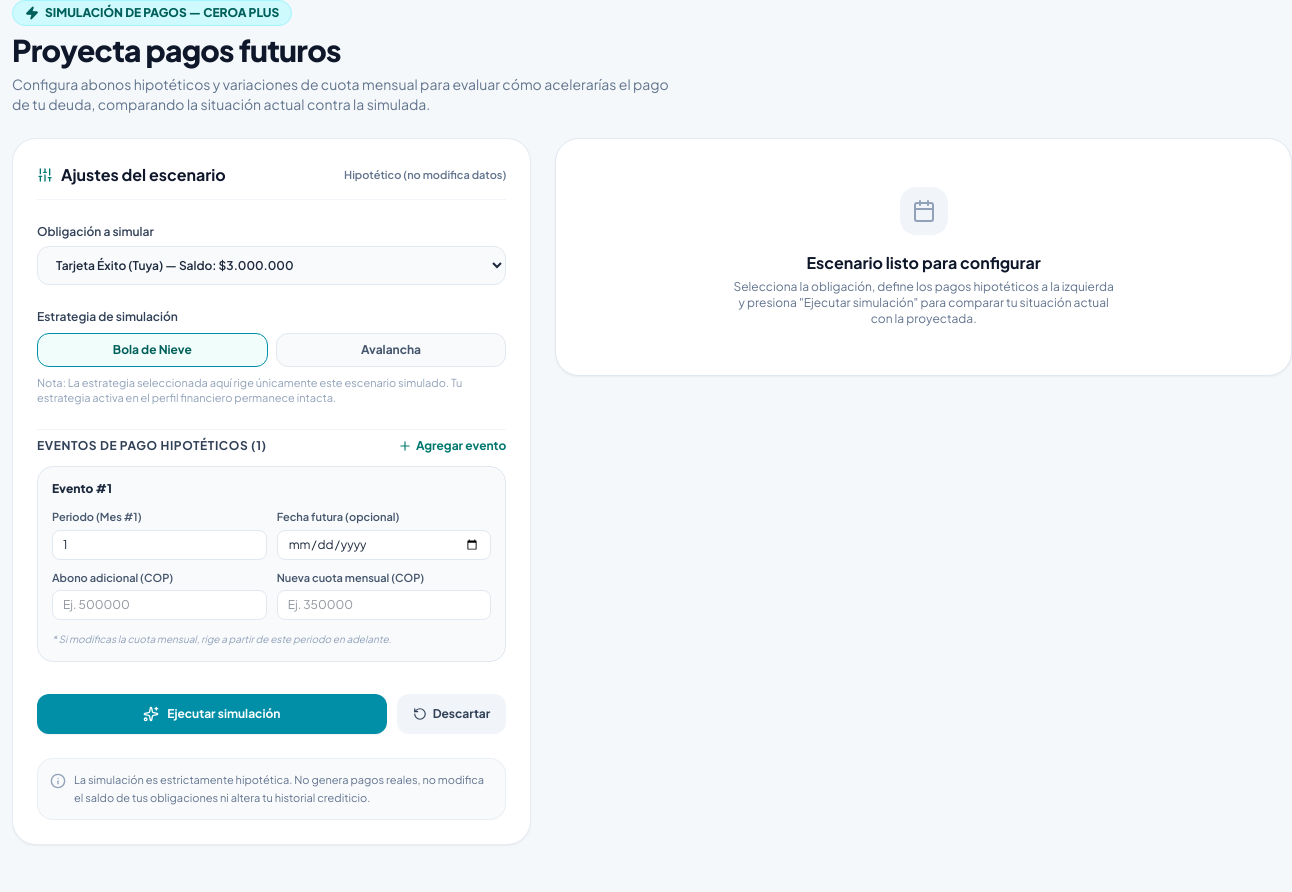
it: EP-11 — Simulación de pagos (HU-045, HU-046, HU-047) › HU-047: Modificar o descartar escenario › Permite modificar eventos y reejecutar la simulación con nuevos resultados
This screenshot has width=1292, height=892.
// Primera ejecución
Type "500000" into the number field with placeholder "Ej. 500000". click: (159,605)
box: left=52, top=590, right=267, bottom=620
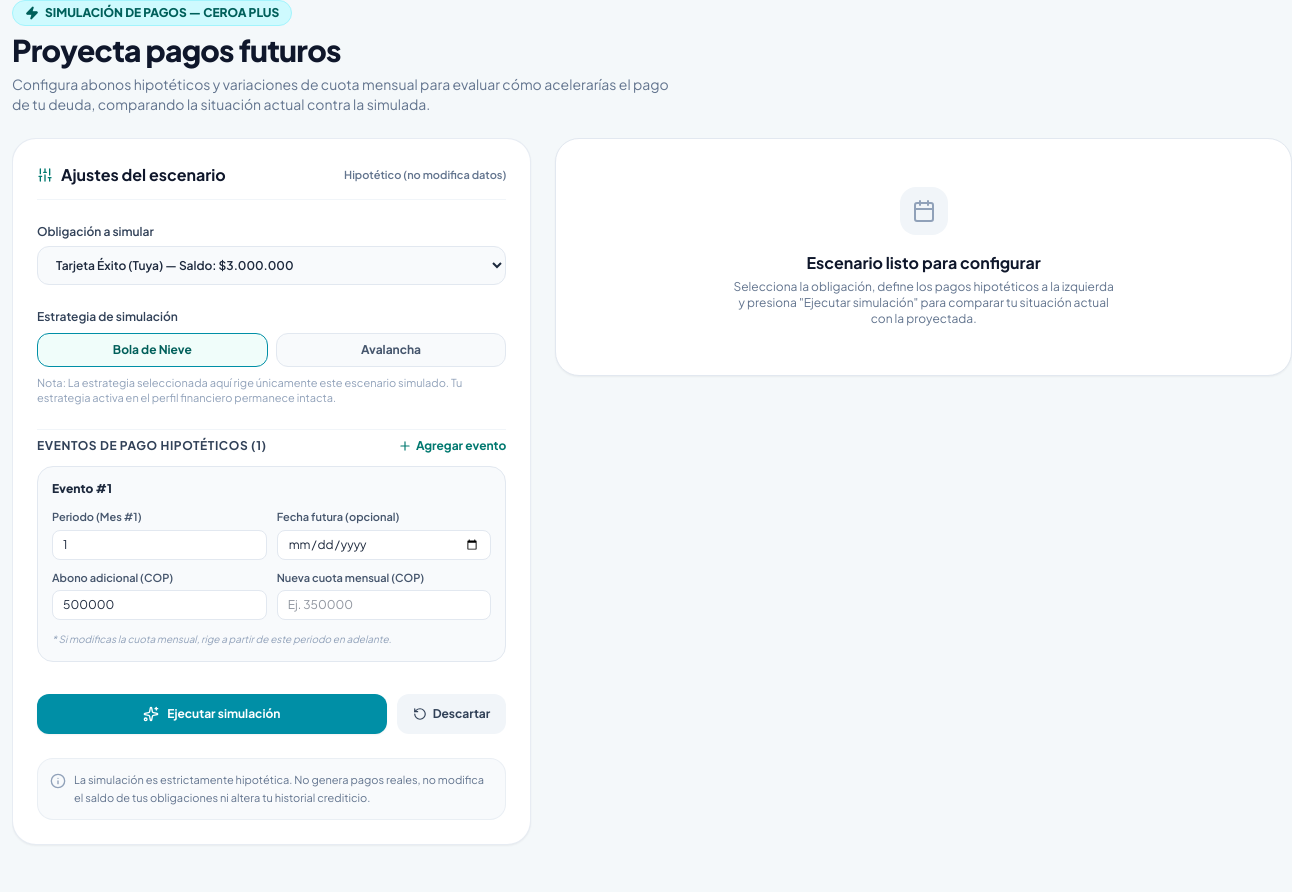
Click the button "Ejecutar simulación". click: (212,714)
box: left=37, top=694, right=387, bottom=734
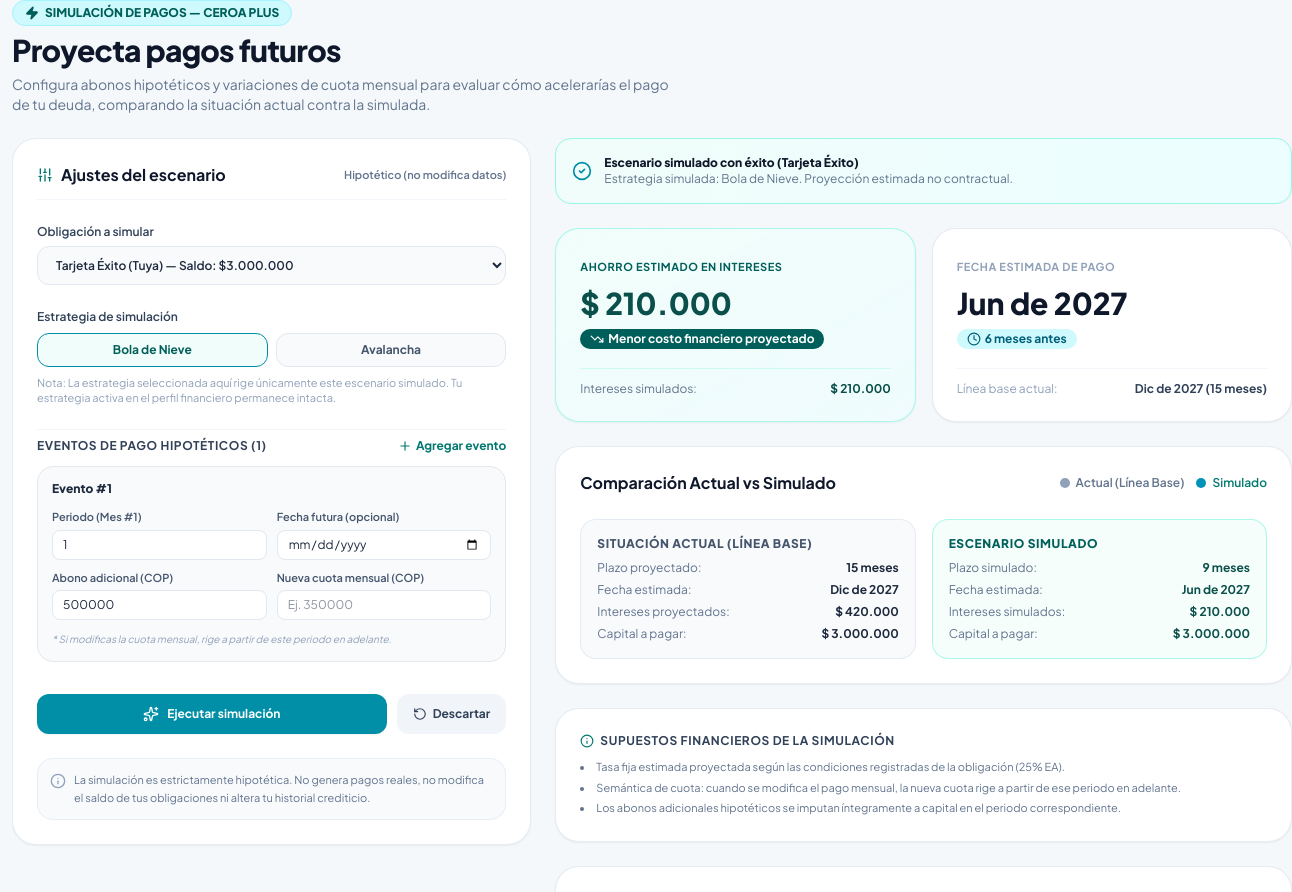
Result: the text "6 meses antes" is shown at left=985, top=331, right=1067, bottom=347
// Modificar monto a 800000 y reejecutar
Replace the text in the number field with placeholder "Ej. 500000" with "800000". click: (159,605)
box: left=52, top=590, right=267, bottom=620
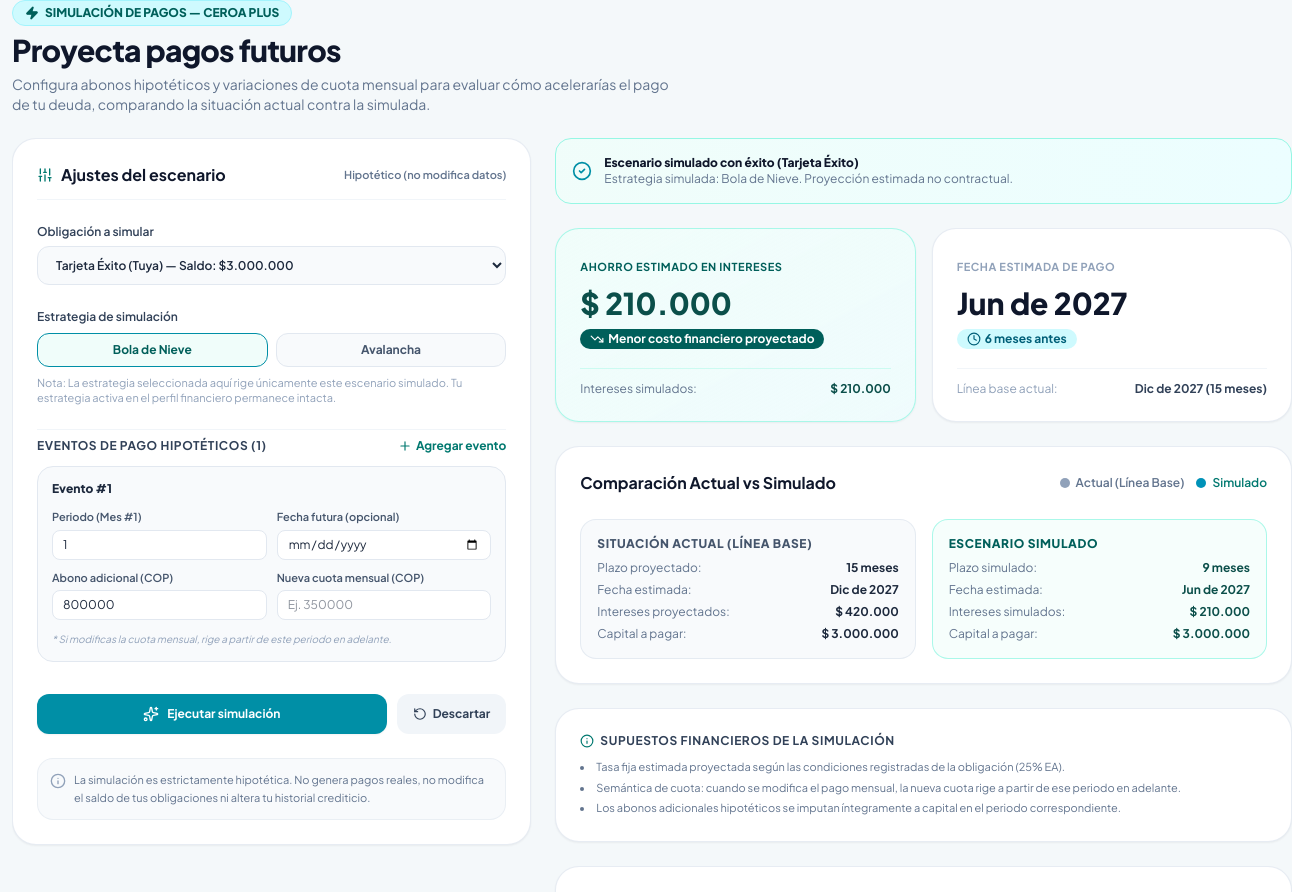
Click the button "Ejecutar simulación". click: (212,714)
box: left=37, top=694, right=387, bottom=734
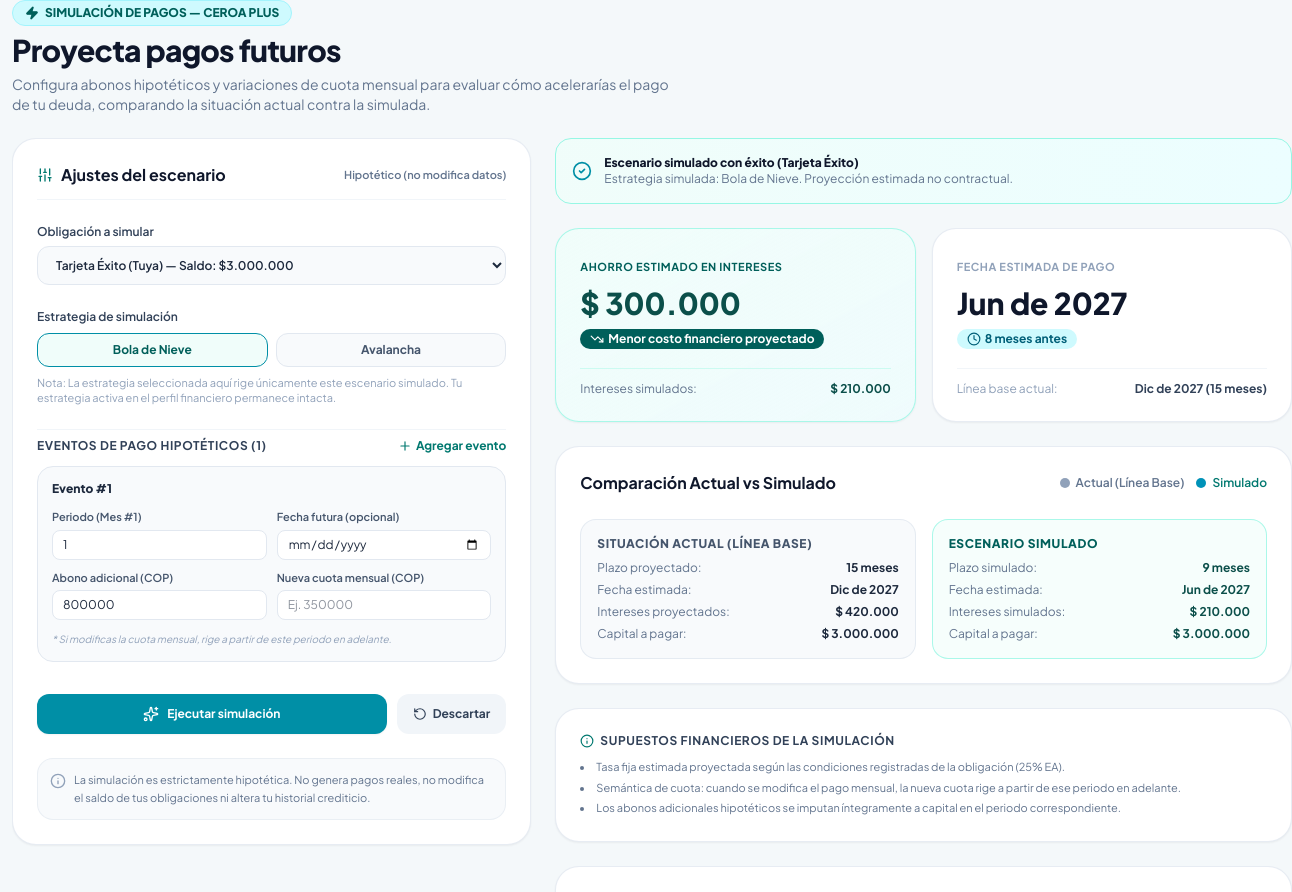
Result: the text "8 meses antes" is shown at left=985, top=331, right=1067, bottom=347
